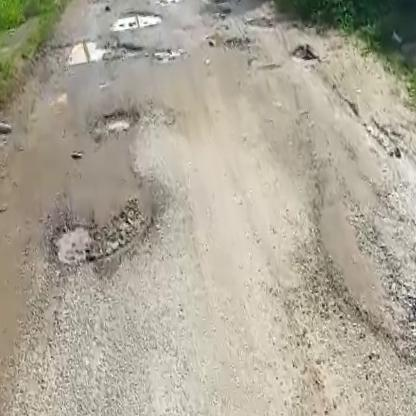pothole: (47, 208, 147, 269), (49, 35, 115, 71), (108, 7, 164, 35), (97, 105, 140, 140)
